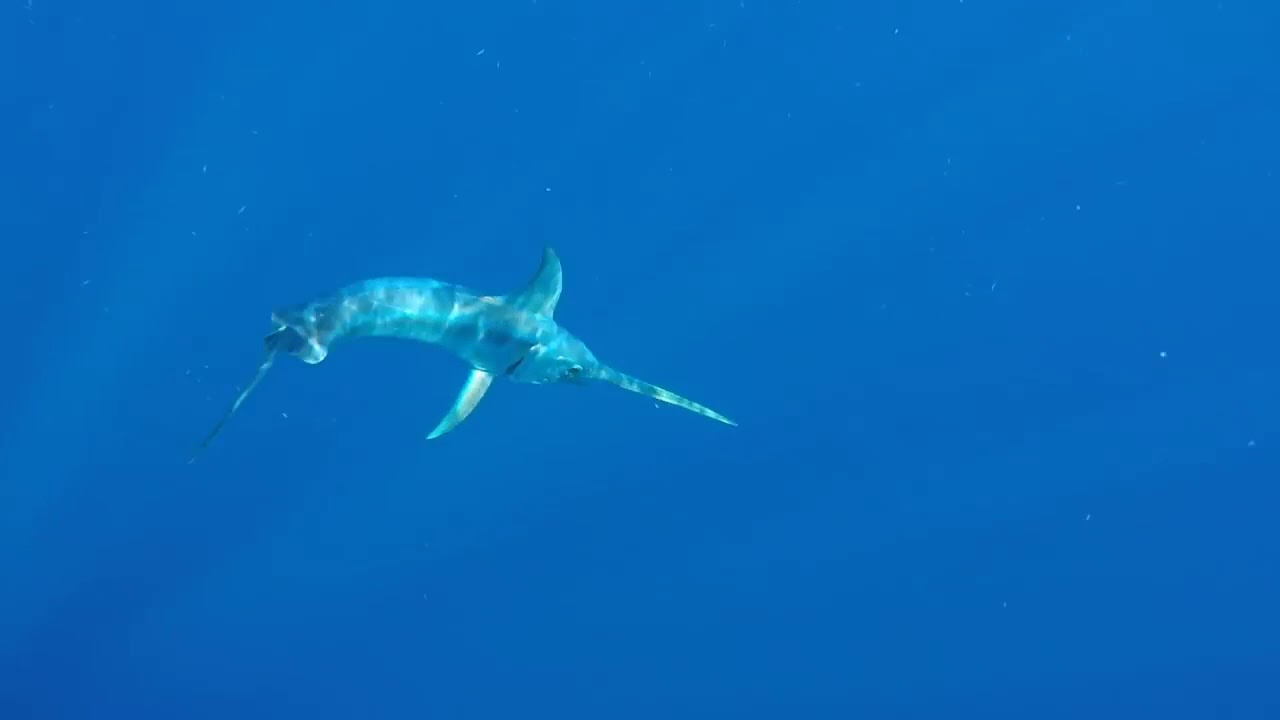swordfish: (170, 240, 756, 477)
